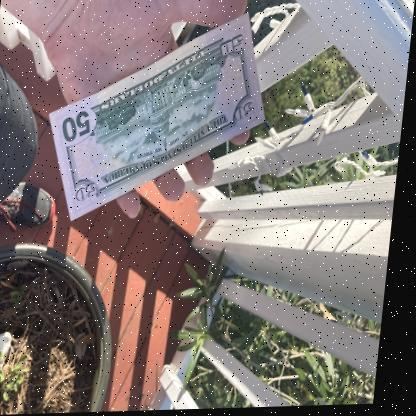dollar_back: (50, 14, 267, 223)
